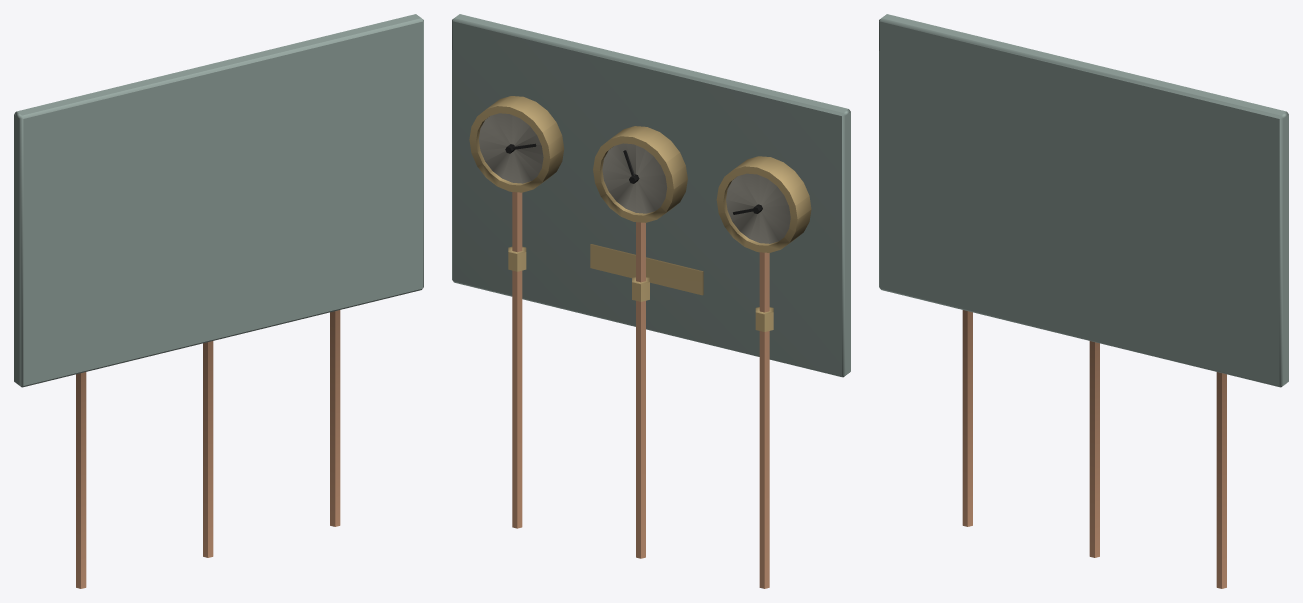
Rendered from gauge_board.glb.
3 renders of one model, left to right at view 1: azimuth 30°, elevation 25°; view 2: azimuth 150°, elevation 25°; view 3: azimuth 330°, elevation 25°, orthographic. The views are drawn at different scales.
Parts seen in each view (by area): view 1: static; view 2: static; view 3: static.
Boxes of the visible parts, x1=… form: static: x1=14, y1=14, x2=423, y2=588; static: x1=452, y1=14, x2=850, y2=588; static: x1=879, y1=14, x2=1288, y2=588.
Bounding box in the file's own units: 0.7 × 0.825 × 0.072.
